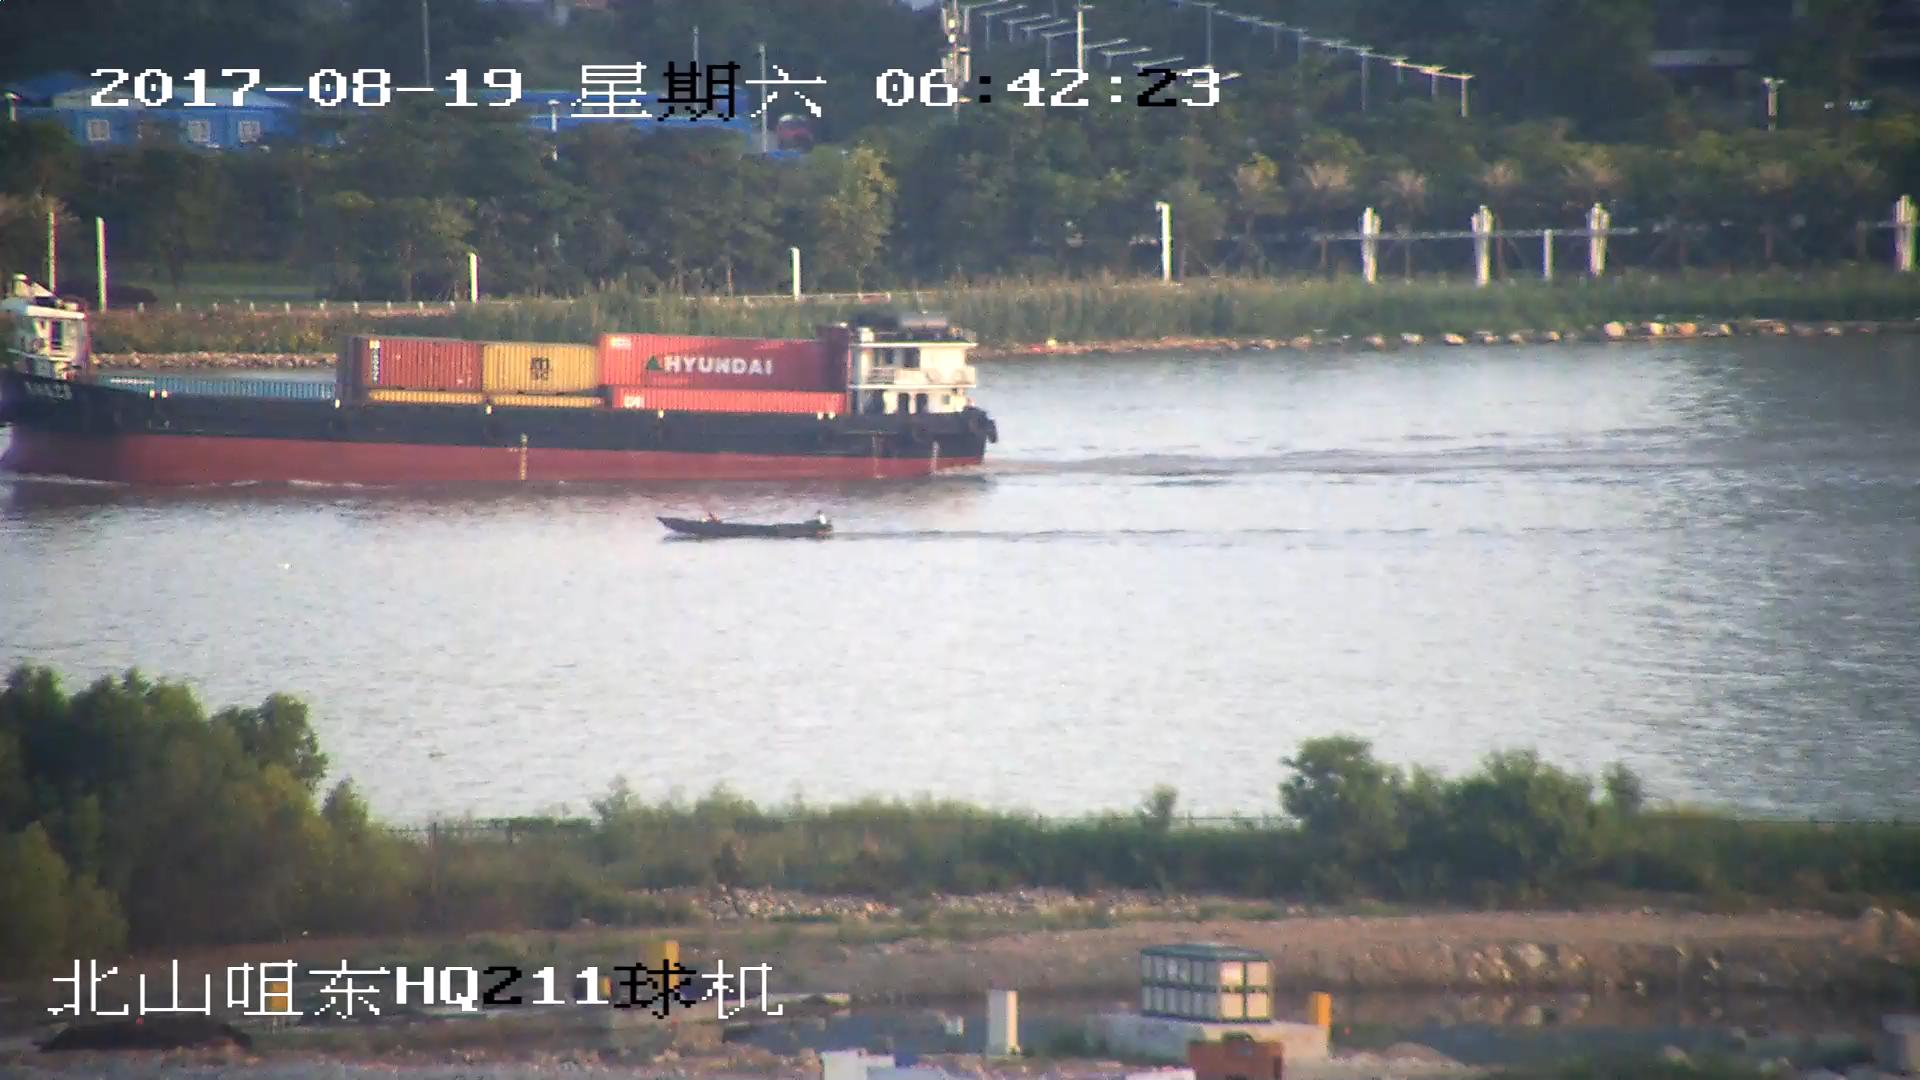container ship: (1, 276, 1001, 486)
fishing boat: (659, 509, 829, 541)
